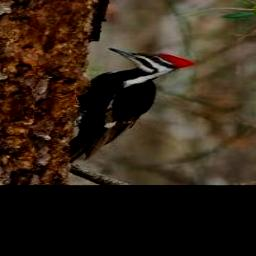Woodpecker: (68, 48, 193, 162)
